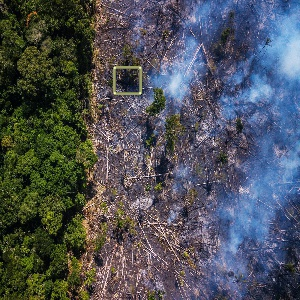square: (111, 64, 143, 97)
